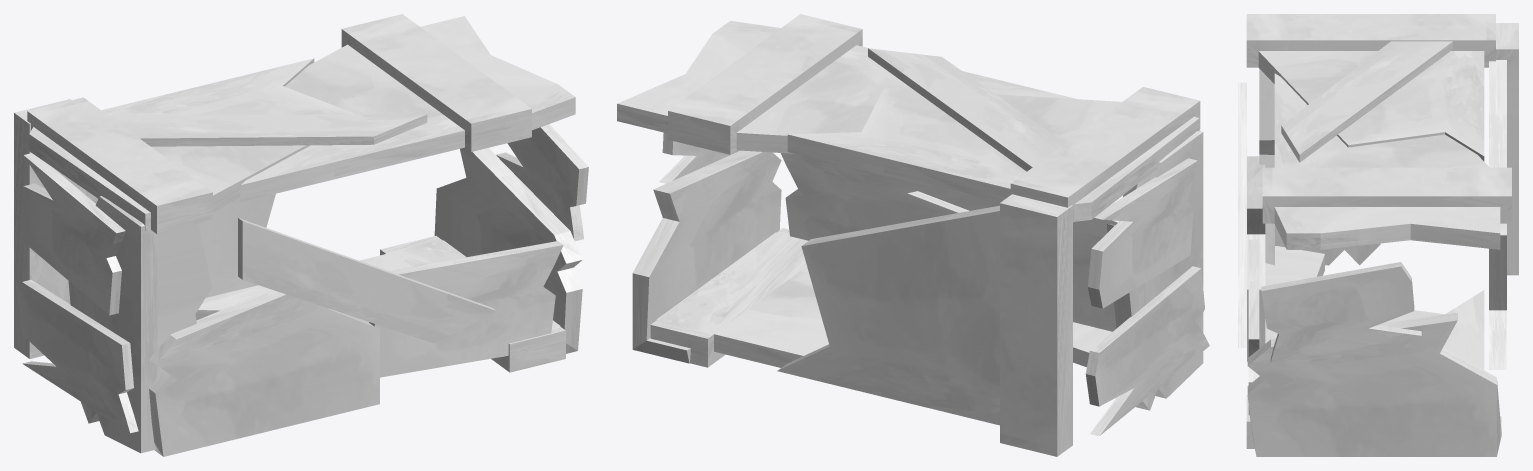
Rendered from Crate_break.fbx.
3 views of the same model, side by side, from view 1: azimuth 30°, elevation 25°; view 2: azimuth 150°, elevation 25°; view 3: azimuth 270°, elevation 25° (orthographic). The views are drawn at different scales.
Parts seen in each view (by area): view 1: polySurface83, polySurface84, polySurface67, polySurface85, polySurface82, polySurface72, polySurface70, polySurface68; view 2: polySurface68, polySurface85, polySurface83, polySurface82, polySurface67, polySurface70, polySurface72, polySurface84; view 3: polySurface85, polySurface72, polySurface67, polySurface82, polySurface70, polySurface68, polySurface83, polySurface84.
Boxes of the visible parts, box(x1,y1,x2,y2) form: polySurface83: box(18, 153, 379, 456); polySurface84: box(238, 218, 563, 377); polySurface67: box(240, 15, 557, 202); polySurface85: box(195, 124, 588, 372); polySurface82: box(27, 58, 427, 234); polySurface72: box(245, 14, 575, 199); polySurface70: box(29, 58, 355, 213); polySurface68: box(14, 99, 275, 358); polySurface68: box(777, 194, 1072, 456); polySurface85: box(632, 132, 828, 367); polySurface83: box(1073, 131, 1209, 436); polySurface82: box(833, 48, 1200, 222); polySurface67: box(622, 15, 1075, 154); polySurface70: box(787, 87, 1198, 207); polySurface72: box(617, 14, 1010, 151); polySurface84: box(780, 153, 999, 240); polySurface85: box(1246, 262, 1501, 456); polySurface72: box(1262, 76, 1511, 249); polySurface67: box(1262, 73, 1511, 230); polySurface82: box(1246, 14, 1495, 162); polySurface70: box(1246, 40, 1495, 155); polySurface68: box(1489, 23, 1518, 369); polySurface83: box(1247, 69, 1380, 361); polySurface84: box(1238, 82, 1259, 415).
Size of the model in its own units: 1.96 by 1.06 by 1.08.
